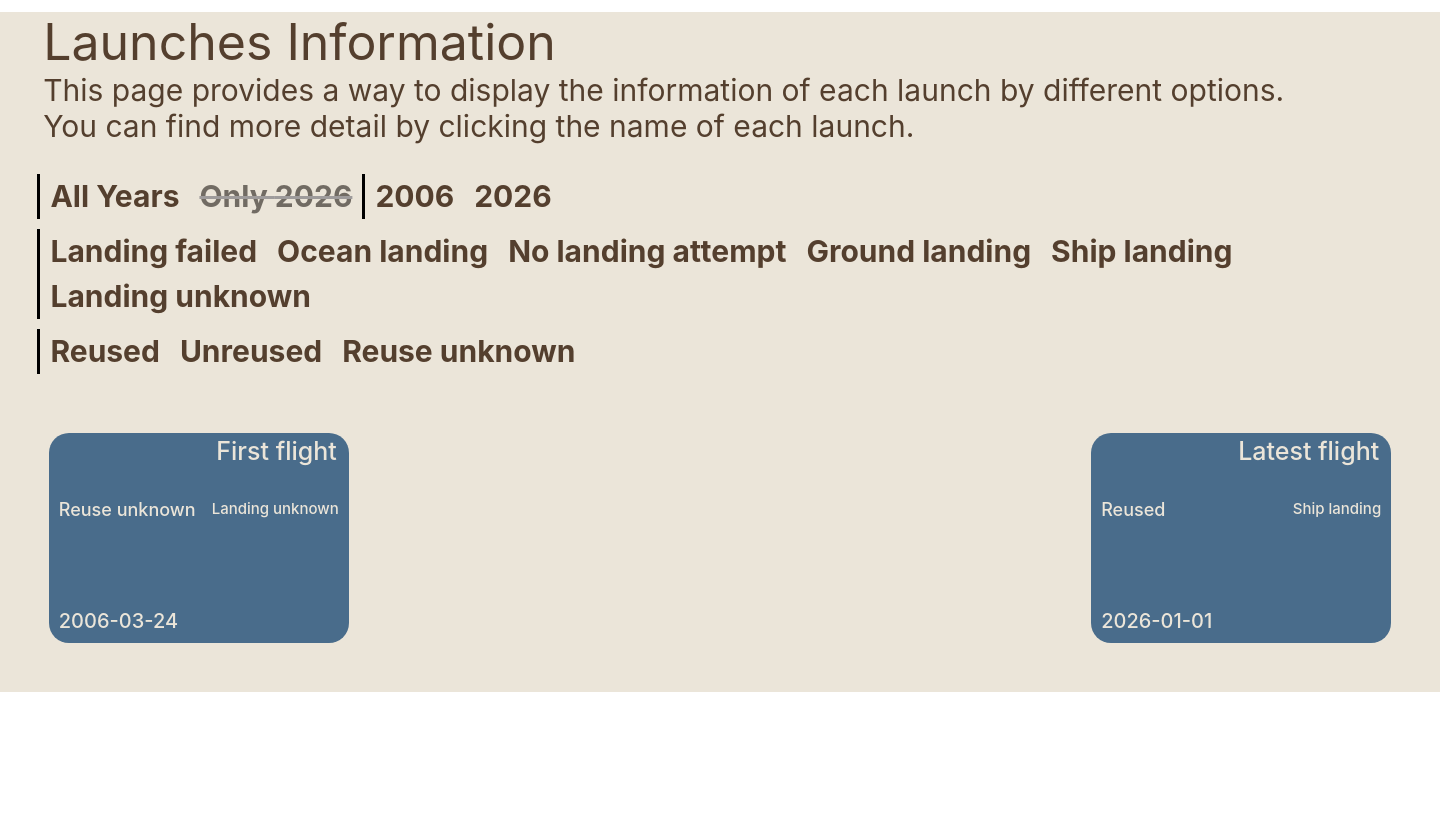
Test: years can be deselected completely, even after choosing the latest year
Click the button "Only 2026" at (276, 196), box x1=194 y1=179 x2=357 y2=214
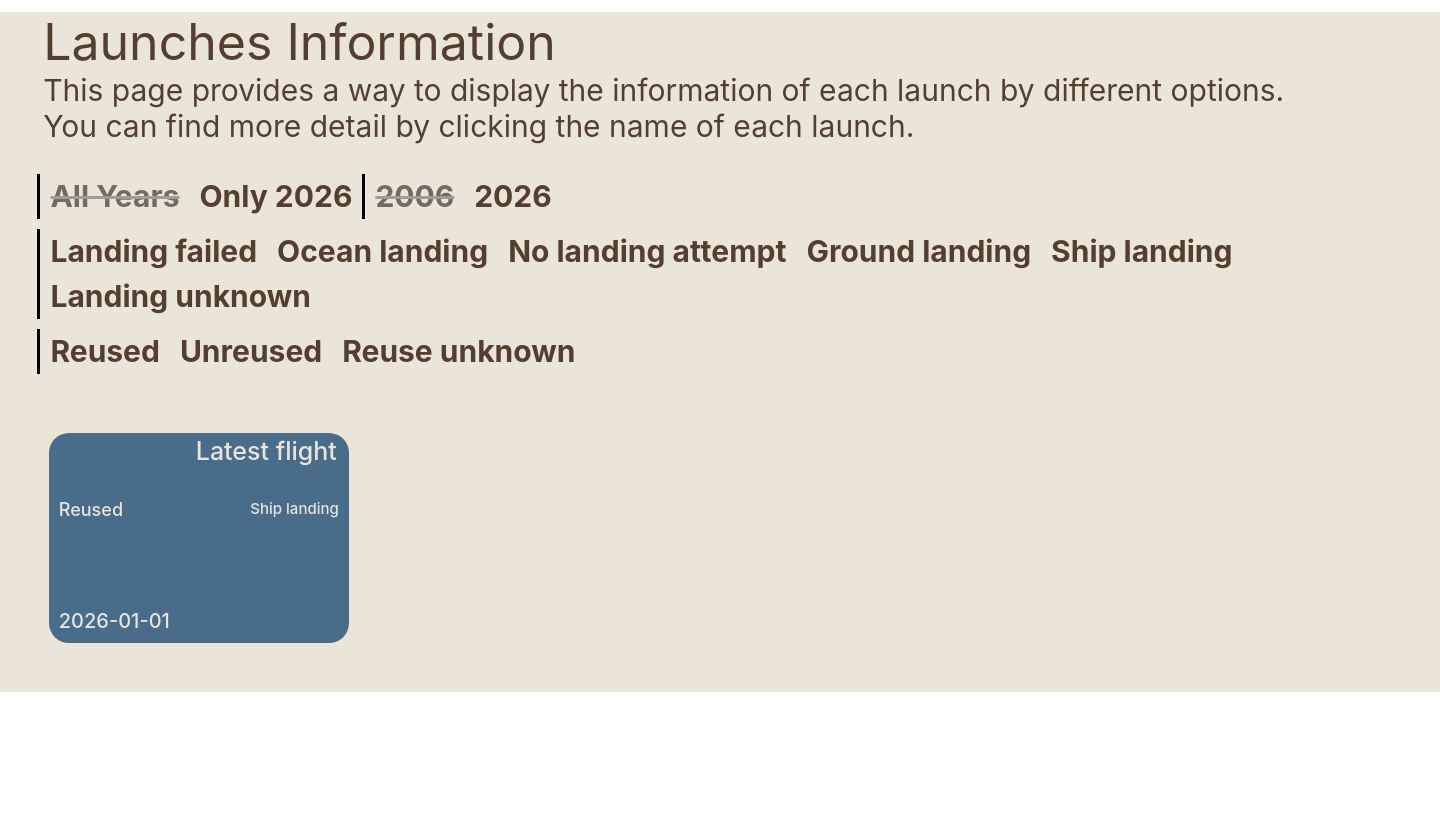
Now the link "First flight" is gone
Click the button "2026" at (513, 196), box x1=469 y1=179 x2=557 y2=214
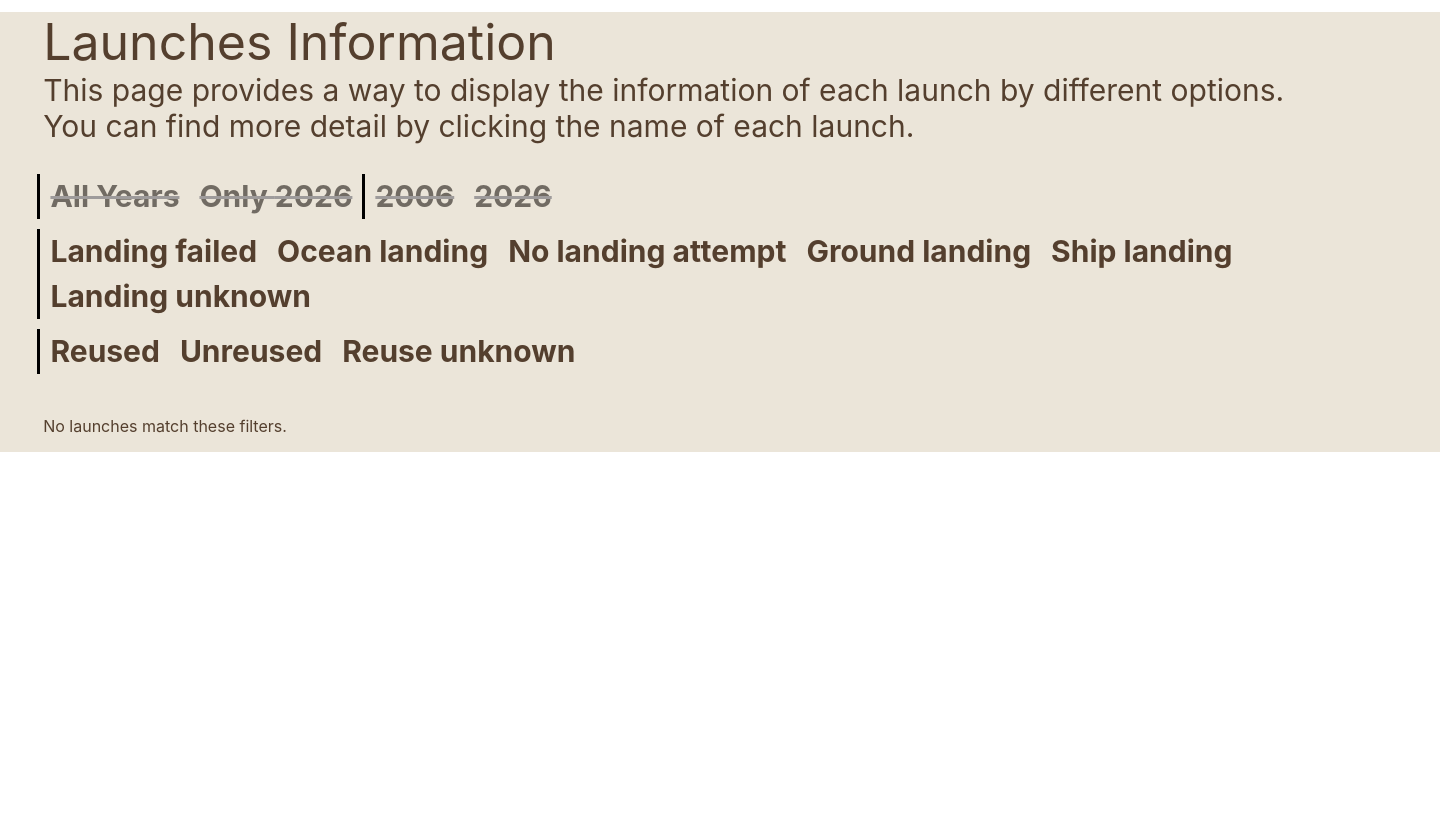
Now the message shows "No launches match", box x1=43 y1=416 x2=287 y2=436
Click the button "All Years" at (115, 196), box x1=45 y1=179 x2=184 y2=214
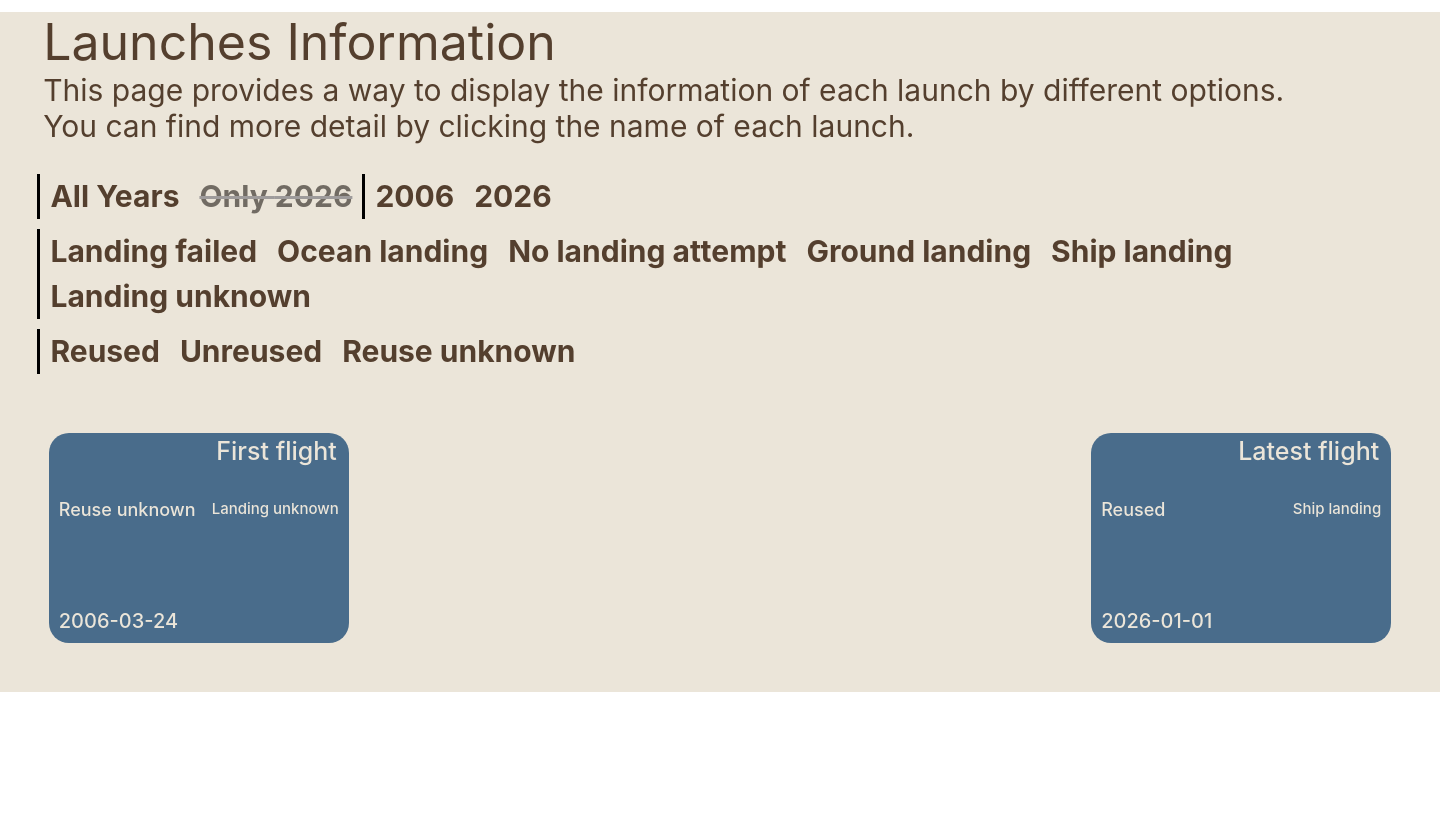
Now the number of links is 2, box x1=216 y1=436 x2=337 y2=466; x1=1238 y1=436 x2=1379 y2=466
